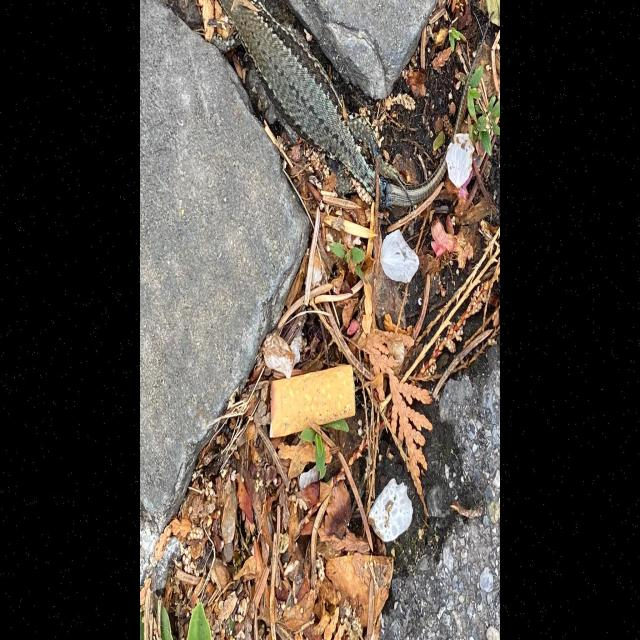other waste: (267, 362, 357, 440)
